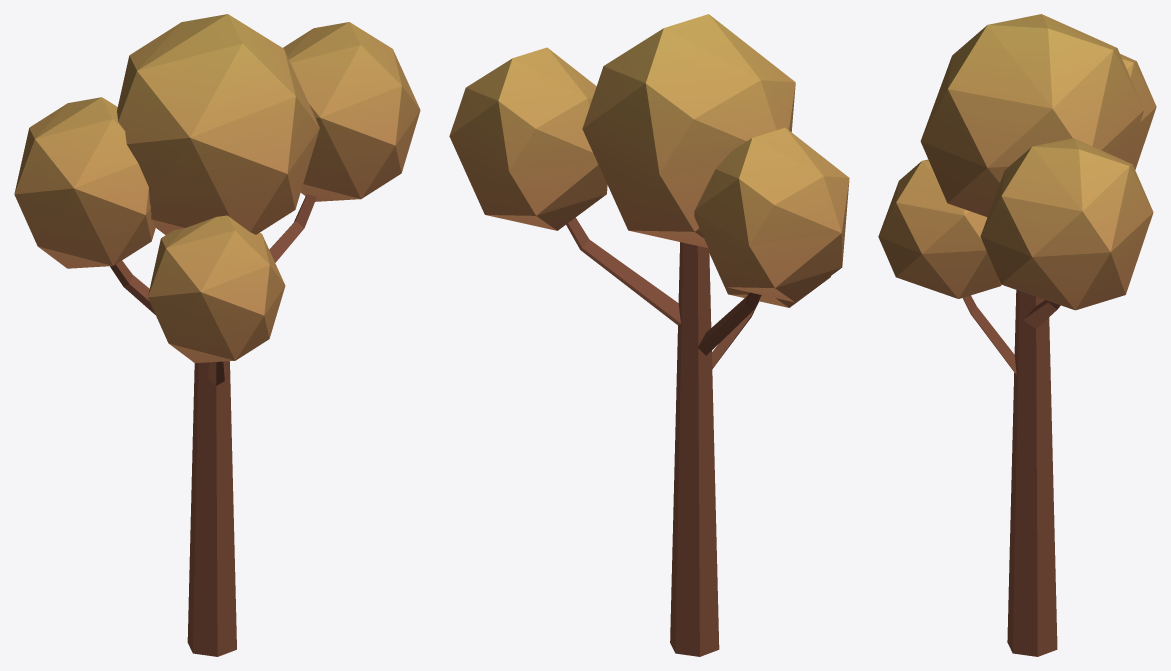
File: Tree_35_gradient_yellow_vc.fbx
The picture shows the model from 3 angles, left to right: view 1: azimuth 30°, elevation 25°; view 2: azimuth 150°, elevation 25°; view 3: azimuth 270°, elevation 25°; orthographic projection.
Parts seen in each view (by area): view 1: Tree_35_gradient_yellow_vc; view 2: Tree_35_gradient_yellow_vc; view 3: Tree_35_gradient_yellow_vc.
Boxes of the visible parts, box(x1,y1,x2,y2) form: Tree_35_gradient_yellow_vc: box(14, 14, 420, 656); Tree_35_gradient_yellow_vc: box(449, 14, 849, 656); Tree_35_gradient_yellow_vc: box(878, 14, 1156, 656).
Bounding box in the file's own units: 423 × 658 × 264.
